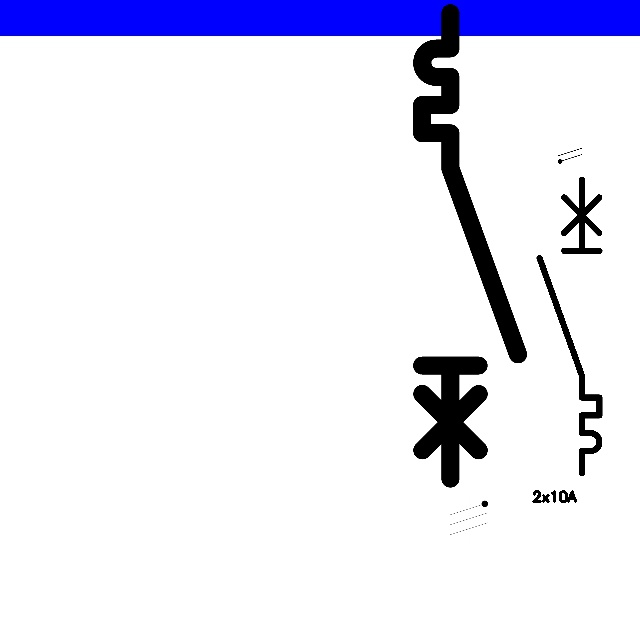interruptor_termomagnetico: (410, 1, 530, 490), (532, 171, 607, 480)
